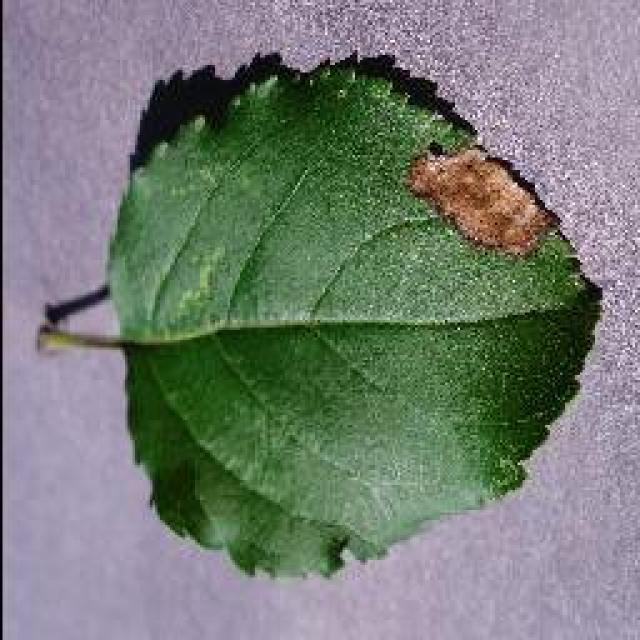apple black rot: (38, 45, 602, 580)
